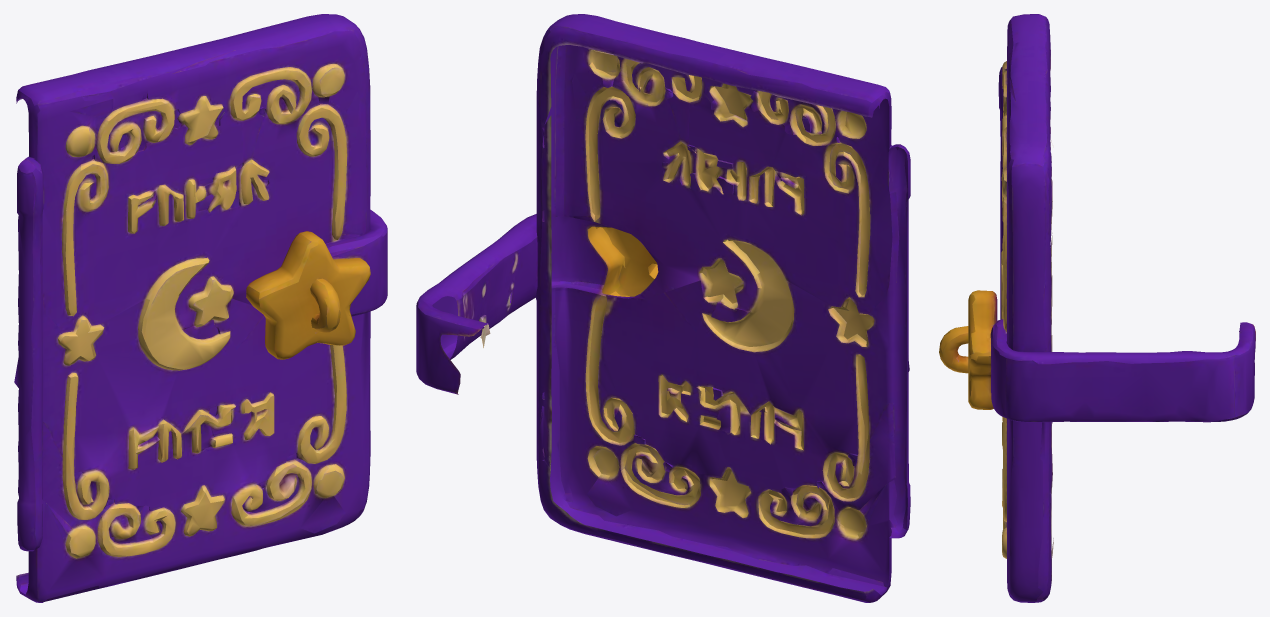
Rendered from cover_front.glb.
3 views of the same model, side by side, from view 1: azimuth 30°, elevation 25°; view 2: azimuth 150°, elevation 25°; view 3: azimuth 270°, elevation 25° (orthographic). The views are drawn at different scales.
Visible parts, largest first — view 1: geometry_0; view 2: geometry_0; view 3: geometry_0.
Part boxes in pixels (x1,y1,x2,y2): geometry_0: [14, 14, 387, 602]; geometry_0: [416, 14, 910, 602]; geometry_0: [939, 14, 1255, 602].
Bounding box in the file's own units: 0.0935 × 0.1199 × 0.0755.
1 material, 1 textured.
